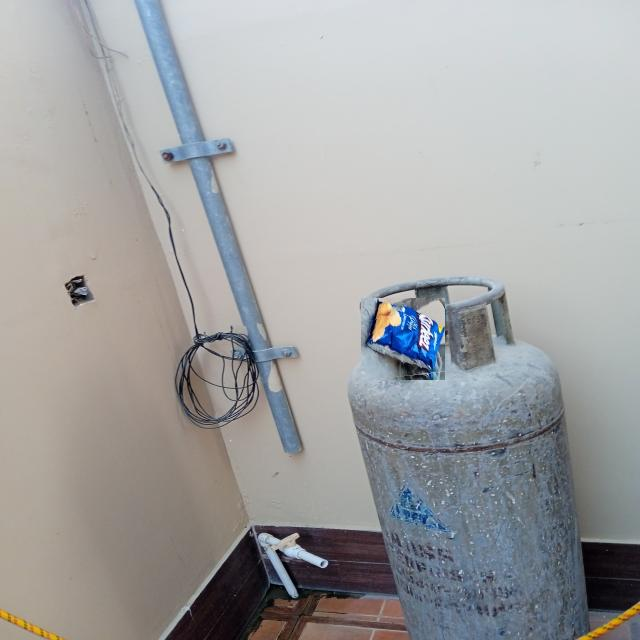Plastic: (361, 298, 445, 381)
